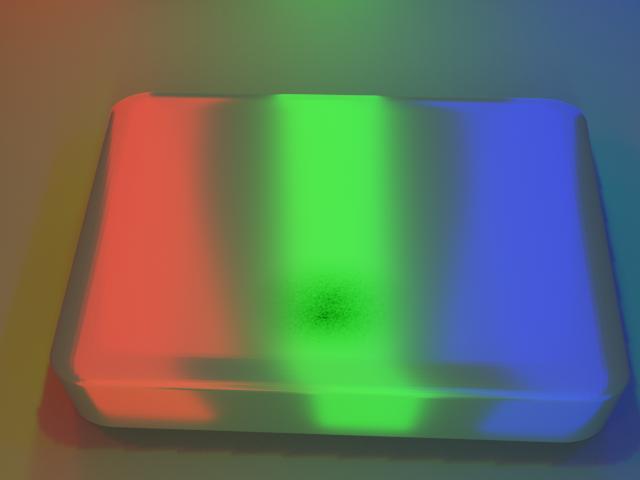stain: (218, 247, 483, 411)
